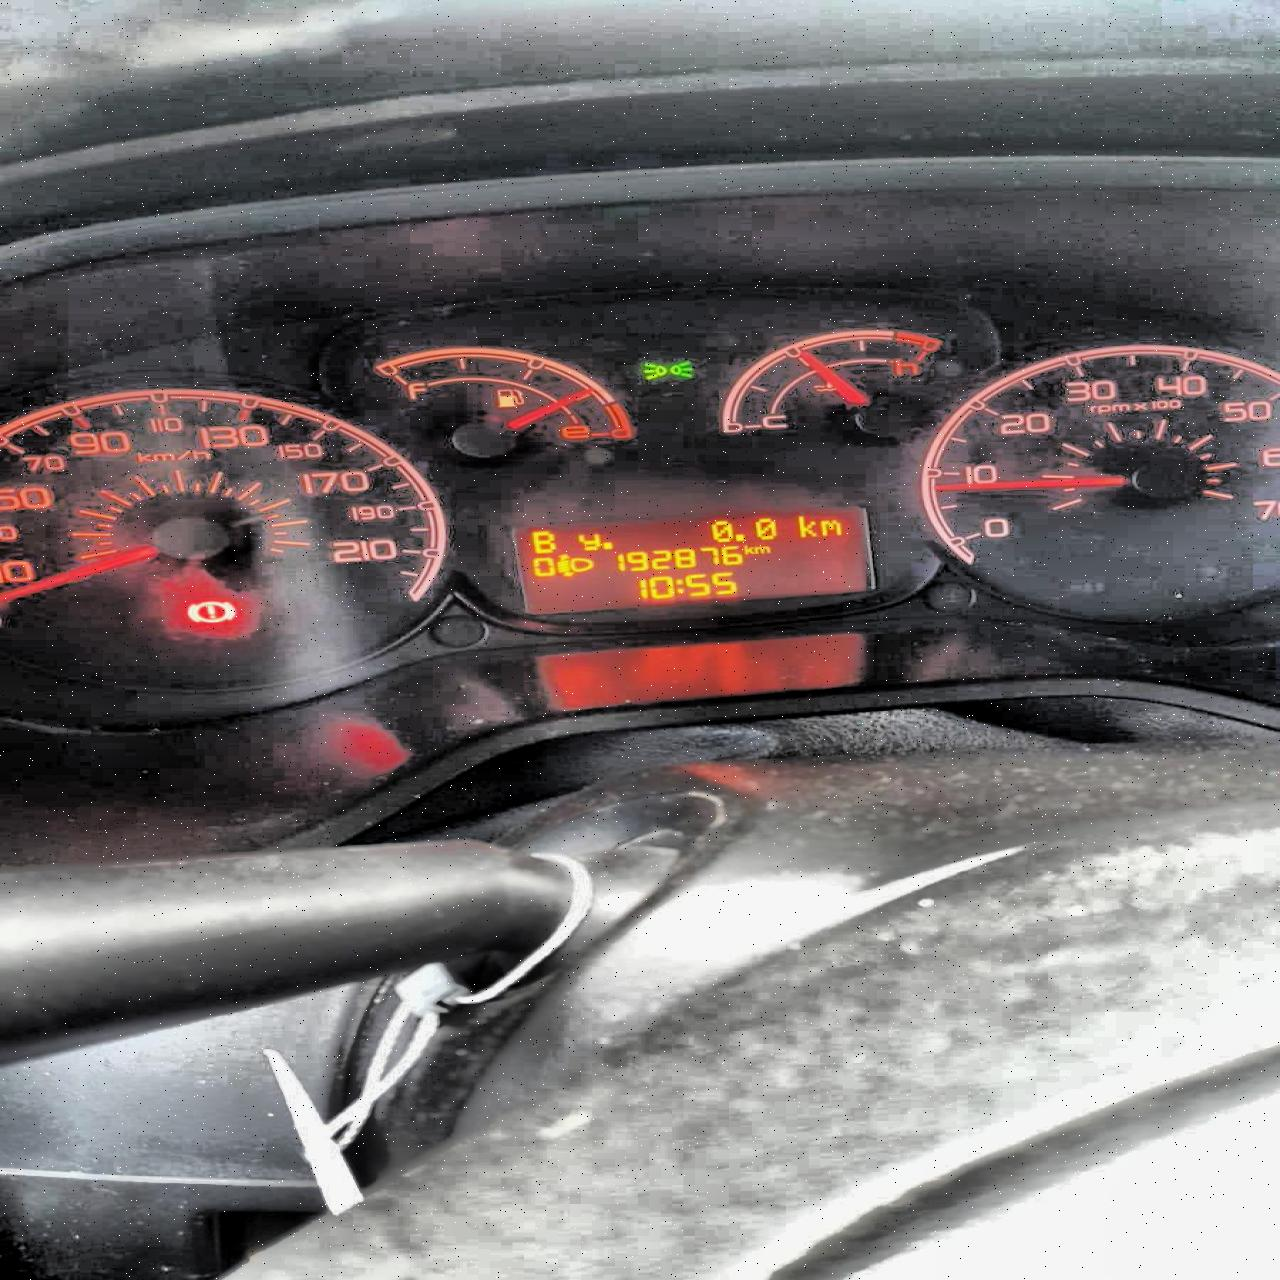-: (733, 530, 745, 542), (601, 539, 614, 550)
0: (703, 518, 734, 542), (751, 517, 781, 540), (648, 576, 673, 599), (530, 556, 557, 577)
1: (636, 577, 648, 600), (614, 552, 625, 572)
2: (651, 547, 673, 570)
5: (710, 570, 742, 597), (683, 572, 710, 597)
6: (720, 543, 742, 566)
7: (697, 545, 721, 566)
8: (672, 546, 695, 567)
9: (625, 549, 648, 572)
X: (526, 527, 558, 553), (794, 512, 817, 540), (818, 517, 845, 539), (576, 531, 602, 551), (674, 577, 687, 595), (754, 545, 775, 554), (742, 543, 755, 554)
odometer: (509, 503, 881, 613)
